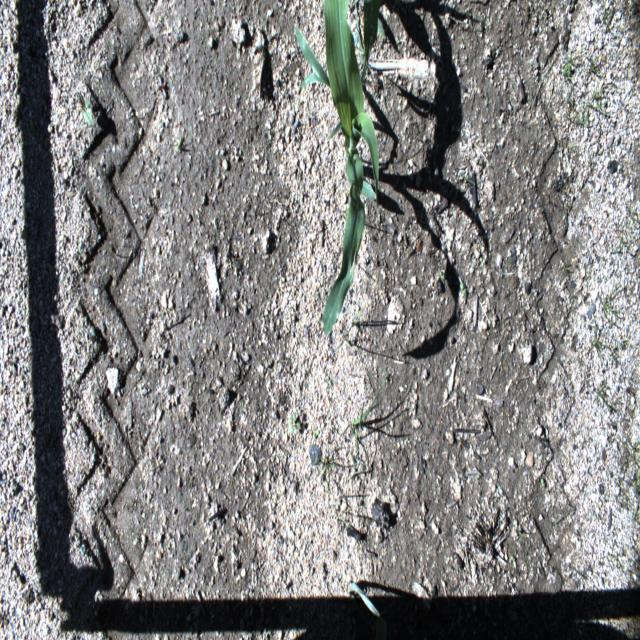crop: (294, 0, 380, 332), (354, 0, 385, 85)
weed: (352, 375, 386, 469), (348, 586, 380, 620), (338, 309, 364, 348), (318, 451, 340, 496), (329, 503, 355, 528), (624, 203, 638, 243), (79, 97, 94, 131), (614, 233, 633, 259), (568, 103, 588, 126), (632, 469, 640, 524), (562, 54, 576, 82), (590, 91, 606, 114), (287, 413, 302, 434), (602, 293, 616, 313), (593, 332, 601, 350), (634, 439, 640, 459), (598, 382, 604, 402), (590, 60, 598, 75), (460, 281, 467, 298), (176, 136, 182, 154), (312, 428, 320, 441), (539, 477, 546, 490), (509, 552, 516, 564), (439, 268, 445, 282), (587, 616, 594, 624)
